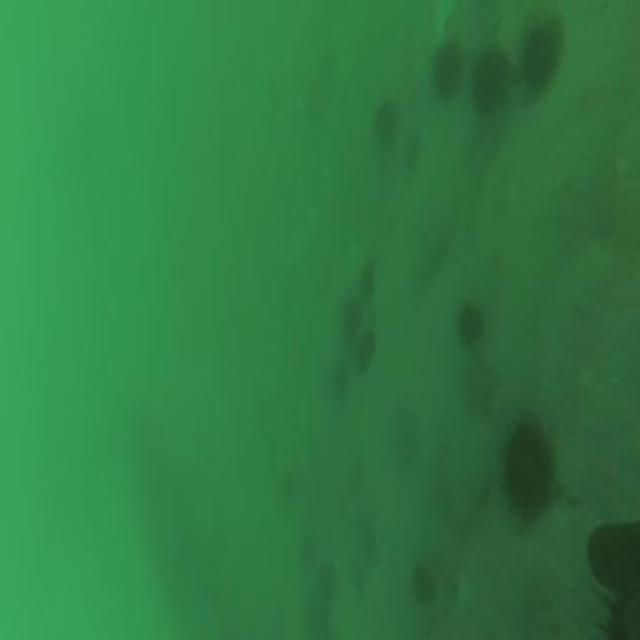echinus: (500, 406, 558, 528), (465, 41, 523, 127), (515, 17, 566, 109), (426, 32, 468, 101), (457, 302, 483, 355), (374, 92, 399, 145), (339, 295, 361, 351), (352, 332, 378, 376), (357, 265, 378, 302)
